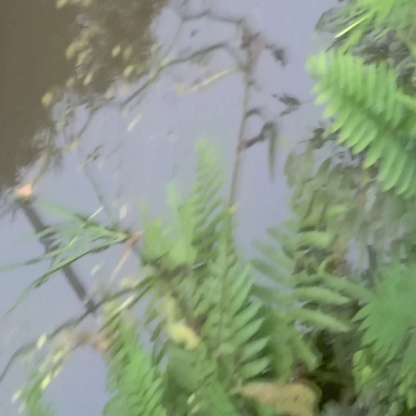grass: (307, 45, 416, 195)
